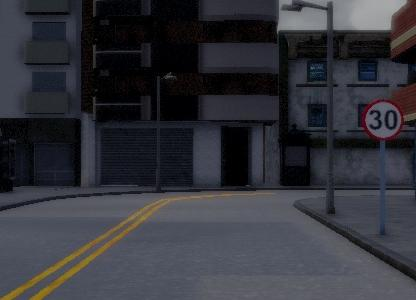Speed_30: (360, 97, 403, 141)
